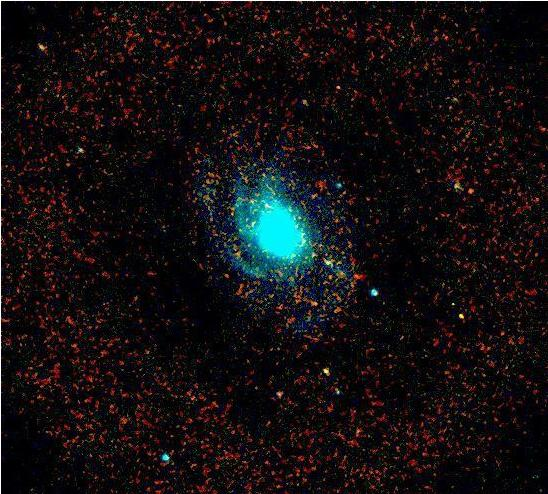star: (458, 177, 488, 207)
